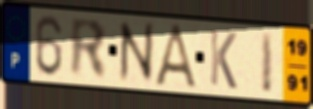6: (34, 12, 64, 80)
A: (152, 22, 202, 92)
I: (259, 30, 275, 95)
K: (208, 27, 239, 92)
N: (117, 19, 156, 85)
R: (68, 15, 109, 82)
